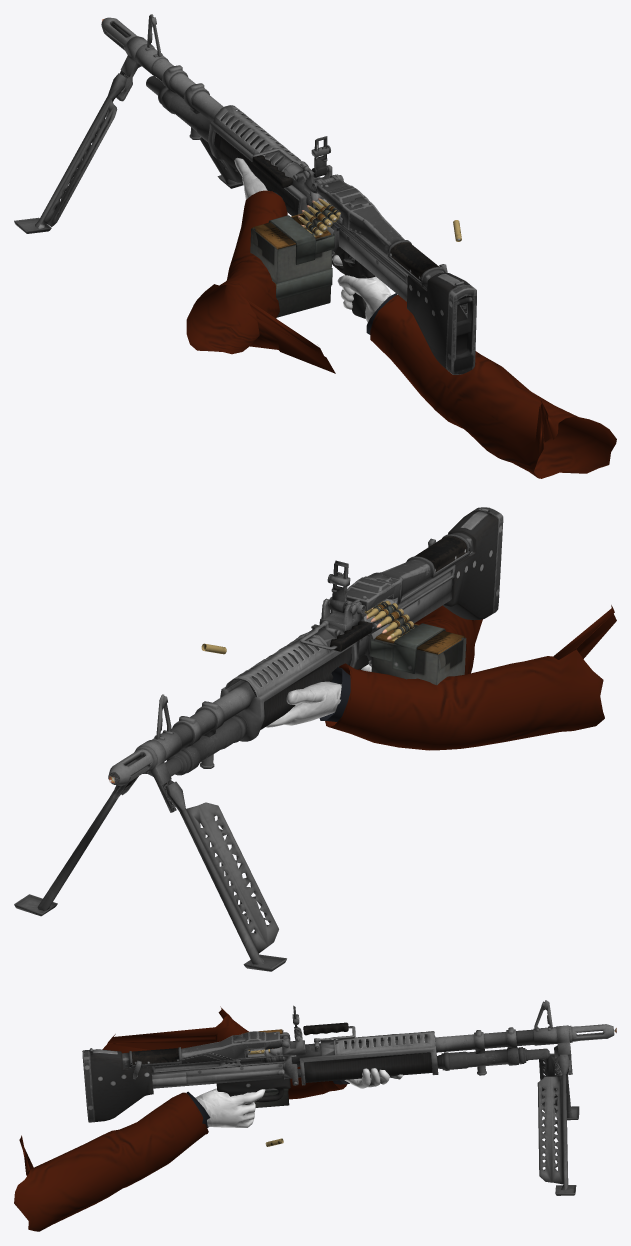
File: frame_24.obj
3 views of the same model, one above another, from view 1: azimuth 30°, elevation 25°; view 2: azimuth 150°, elevation 25°; view 3: azimuth 270°, elevation 25° (orthographic). The views are drawn at different scales.
Parts seen in each view (by area): view 1: Mesh.005, PlayerModelMerged.001_PlayerModelMerged, Mesh.001; view 2: Mesh.005, PlayerModelMerged.001_PlayerModelMerged, Mesh.001; view 3: Mesh.005, PlayerModelMerged.001_PlayerModelMerged.
Part boxes in pixels (left/top/right/bottom): Mesh.005: left=14, top=14, right=476, bottom=374; PlayerModelMerged.001_PlayerModelMerged: left=186, top=157, right=616, bottom=478; Mesh.001: left=297, top=198, right=340, bottom=236; Mesh.005: left=14, top=507, right=503, bottom=971; PlayerModelMerged.001_PlayerModelMerged: left=266, top=605, right=616, bottom=750; Mesh.001: left=366, top=600, right=414, bottom=639; Mesh.005: left=82, top=1000, right=614, bottom=1195; PlayerModelMerged.001_PlayerModelMerged: left=14, top=1006, right=402, bottom=1231.
Bounding box in the file's own units: 0.9933 × 0.7572 × 2.15.
